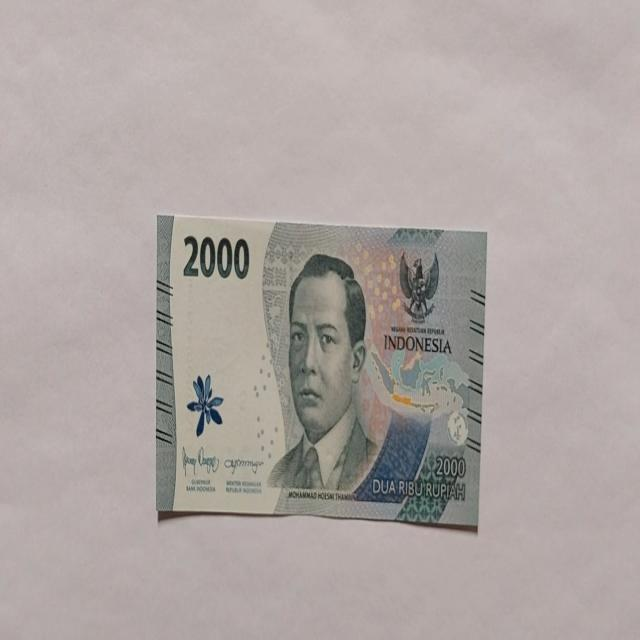dua ribu rupiah: (155, 213, 487, 529), (266, 252, 379, 494)
